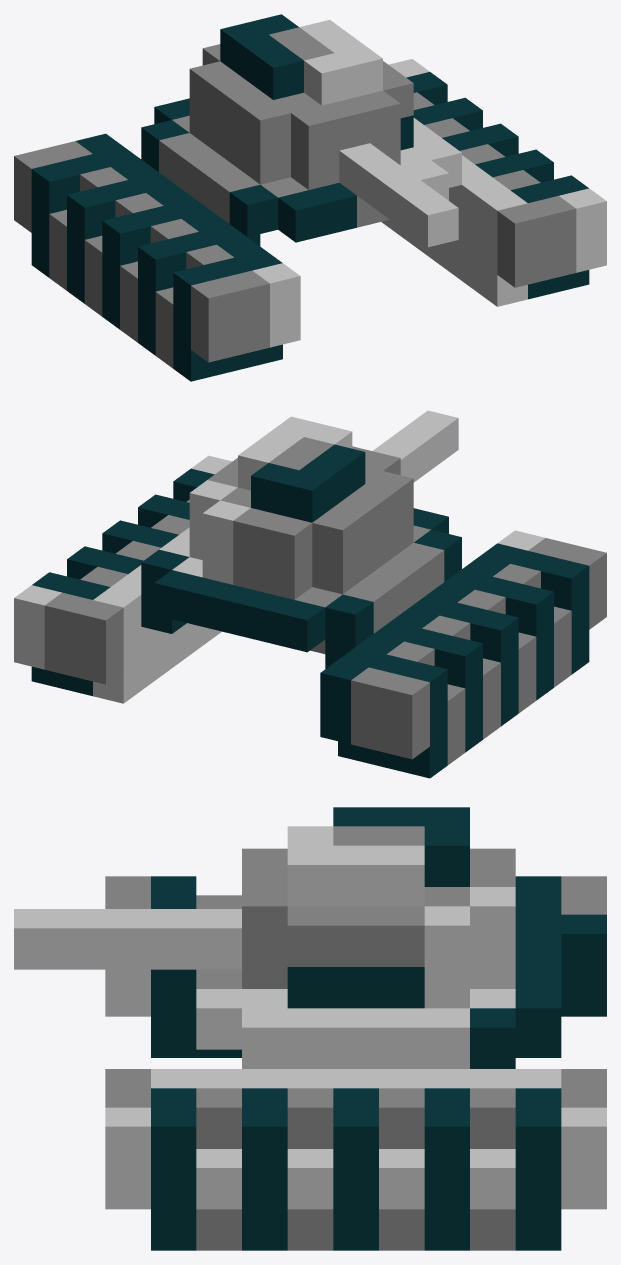
The model's file is fast_gray_tank.glb.
The picture shows the model from 3 angles, top to bottom: view 1: azimuth 30°, elevation 25°; view 2: azimuth 150°, elevation 25°; view 3: azimuth 270°, elevation 25°; orthographic projection. The views are drawn at different scales.
Visible parts, largest first — view 1: Object_2.009; view 2: Object_2.009; view 3: Object_2.009.
Boxes of the visible parts, left/top/right/bottom form: Object_2.009: left=14, top=14, right=606, bottom=381; Object_2.009: left=14, top=410, right=606, bottom=778; Object_2.009: left=14, top=807, right=606, bottom=1250.
Size of the model in its own units: 13 by 7 by 13.
Materials: 1 (1 with a texture image).
